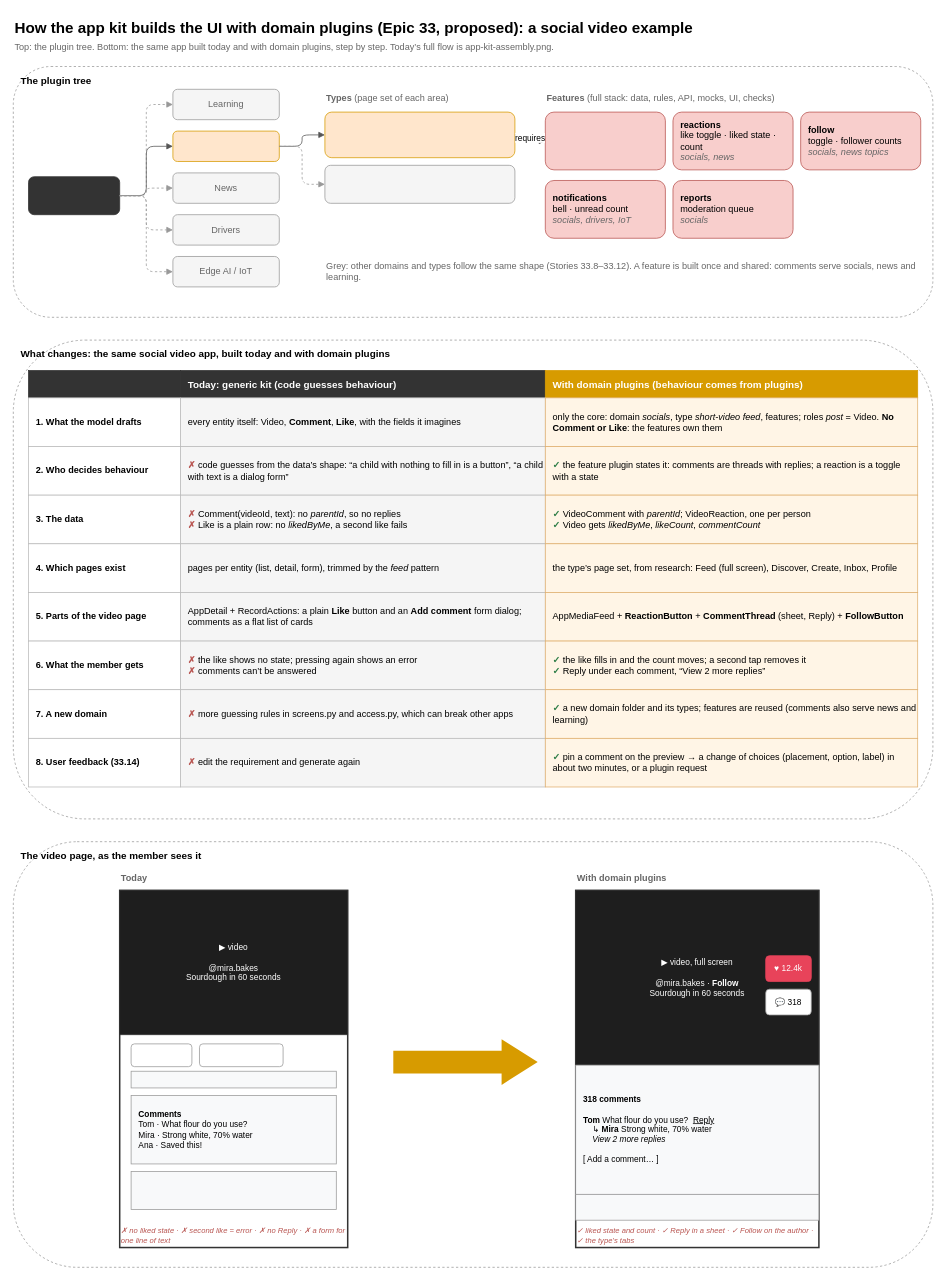
The diagram is 946 pixels wide and 1281 high, and some of its shapes have lost their labels. Here are the shapes that lost their labels. From the top down, the centre of each, then its label:
the point at 225,146: Socials
the point at 419,134: Short-video feed one video per screen, comments in a sheet, profile grid
the point at 605,140: comments replies · thread · inline used by socials, news, learning
the point at 74,195: App Kit
the point at 419,184: Photo & post feed post cards, comments on the post page
the point at 104,384: Step
the point at 161,1055: Like
the point at 241,1055: Add comment
the point at 465,1062: domain plugins
the point at 233,1079: Already exists (409)
the point at 233,1190: Add comment (dialog) Text [__________] [Save]
the point at 697,1207: Feed Discover ＋ Inbox Profile
